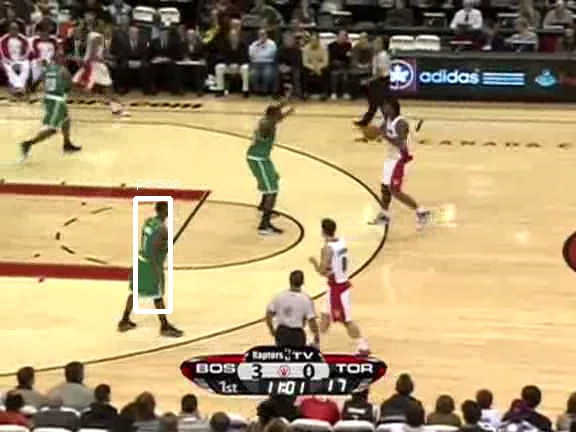person: (135, 218, 169, 299), (134, 218, 168, 299), (136, 218, 170, 299), (135, 217, 169, 298), (135, 219, 169, 300)
target_negative: (474, 84, 544, 327), (243, 304, 343, 414), (261, 229, 387, 294), (97, 363, 231, 424), (151, 372, 376, 405), (390, 379, 458, 430)
